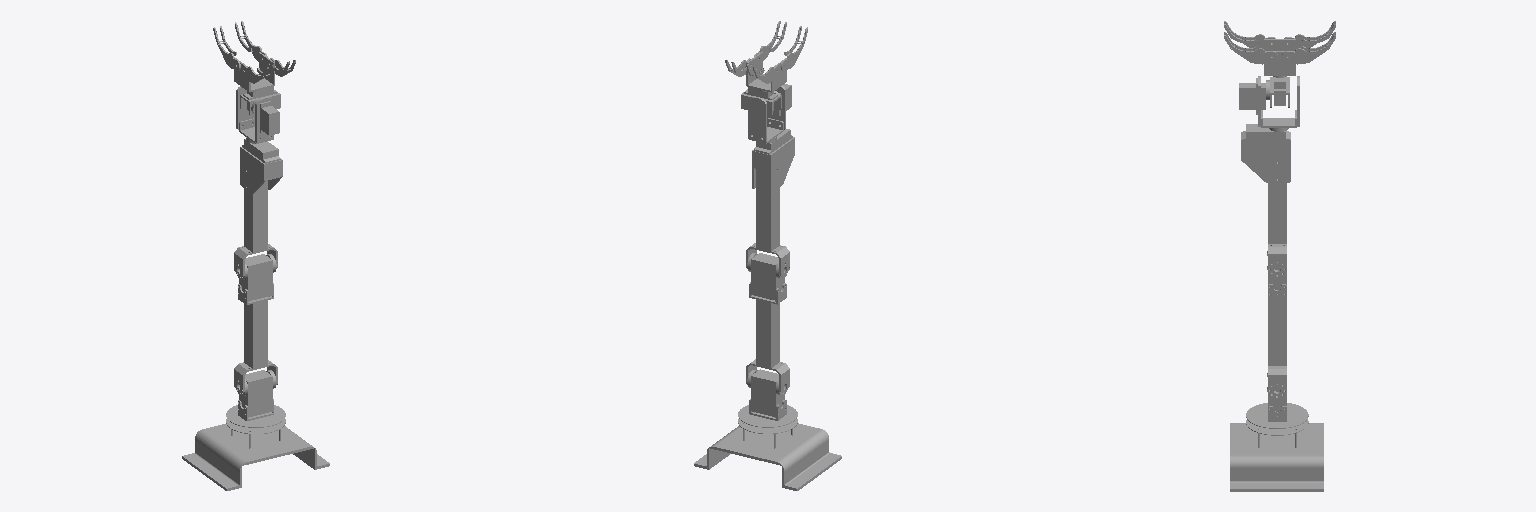
URDF robot description (robotArm_ver7):
<?xml version="1.0" ?>
<!-- =================================================================================== -->
<!-- |    This document was autogenerated by xacro from urdf\robotArm_ver7.xacro.temp  | -->
<!-- |    EDITING THIS FILE BY HAND IS NOT RECOMMENDED                                 | -->
<!-- =================================================================================== -->
<robot xmlns:xacro="http://www.ros.org/wiki/xacro" name="robotArm_ver7">
  <material name="silver">
    <color rgba="0.700 0.700 0.700 1.000"/>
  </material>
  <transmission name="Revolute 0_tran">
    <type>transmission_interface/SimpleTransmission</type>
    <joint name="Revolute 0">
      <hardwareInterface>hardware_interface/EffortJointInterface</hardwareInterface>
    </joint>
    <actuator name="Revolute 0_actr">
      <hardwareInterface>hardware_interface/EffortJointInterface</hardwareInterface>
      <mechanicalReduction>1</mechanicalReduction>
    </actuator>
  </transmission>
  <transmission name="Revolute 6_tran">
    <type>transmission_interface/SimpleTransmission</type>
    <joint name="Revolute 6">
      <hardwareInterface>hardware_interface/EffortJointInterface</hardwareInterface>
    </joint>
    <actuator name="Revolute 6_actr">
      <hardwareInterface>hardware_interface/EffortJointInterface</hardwareInterface>
      <mechanicalReduction>1</mechanicalReduction>
    </actuator>
  </transmission>
  <transmission name="Revolute 7_tran">
    <type>transmission_interface/SimpleTransmission</type>
    <joint name="Revolute 7">
      <hardwareInterface>hardware_interface/EffortJointInterface</hardwareInterface>
    </joint>
    <actuator name="Revolute 7_actr">
      <hardwareInterface>hardware_interface/EffortJointInterface</hardwareInterface>
      <mechanicalReduction>1</mechanicalReduction>
    </actuator>
  </transmission>
  <transmission name="Revolute 8_tran">
    <type>transmission_interface/SimpleTransmission</type>
    <joint name="Revolute 8">
      <hardwareInterface>hardware_interface/EffortJointInterface</hardwareInterface>
    </joint>
    <actuator name="Revolute 8_actr">
      <hardwareInterface>hardware_interface/EffortJointInterface</hardwareInterface>
      <mechanicalReduction>1</mechanicalReduction>
    </actuator>
  </transmission>
  <transmission name="Revolute 9_tran">
    <type>transmission_interface/SimpleTransmission</type>
    <joint name="Revolute 9">
      <hardwareInterface>hardware_interface/EffortJointInterface</hardwareInterface>
    </joint>
    <actuator name="Revolute 9_actr">
      <hardwareInterface>hardware_interface/EffortJointInterface</hardwareInterface>
      <mechanicalReduction>1</mechanicalReduction>
    </actuator>
  </transmission>
  <transmission name="Revolute 3_tran">
    <type>transmission_interface/SimpleTransmission</type>
    <joint name="Revolute 3">
      <hardwareInterface>hardware_interface/EffortJointInterface</hardwareInterface>
    </joint>
    <actuator name="Revolute 3_actr">
      <hardwareInterface>hardware_interface/EffortJointInterface</hardwareInterface>
      <mechanicalReduction>1</mechanicalReduction>
    </actuator>
  </transmission>
  <transmission name="Revolute 4_tran">
    <type>transmission_interface/SimpleTransmission</type>
    <joint name="Revolute 4">
      <hardwareInterface>hardware_interface/EffortJointInterface</hardwareInterface>
    </joint>
    <actuator name="Revolute 4_actr">
      <hardwareInterface>hardware_interface/EffortJointInterface</hardwareInterface>
      <mechanicalReduction>1</mechanicalReduction>
    </actuator>
  </transmission>
  <transmission name="Revolute 5_tran">
    <type>transmission_interface/SimpleTransmission</type>
    <joint name="Revolute 5">
      <hardwareInterface>hardware_interface/EffortJointInterface</hardwareInterface>
    </joint>
    <actuator name="Revolute 5_actr">
      <hardwareInterface>hardware_interface/EffortJointInterface</hardwareInterface>
      <mechanicalReduction>1</mechanicalReduction>
    </actuator>
  </transmission>
  <transmission name="Revolute 19_tran">
    <type>transmission_interface/SimpleTransmission</type>
    <joint name="Revolute 19">
      <hardwareInterface>hardware_interface/EffortJointInterface</hardwareInterface>
    </joint>
    <actuator name="Revolute 19_actr">
      <hardwareInterface>hardware_interface/EffortJointInterface</hardwareInterface>
      <mechanicalReduction>1</mechanicalReduction>
    </actuator>
  </transmission>
  <transmission name="Revolute 21_tran">
    <type>transmission_interface/SimpleTransmission</type>
    <joint name="Revolute 21">
      <hardwareInterface>hardware_interface/EffortJointInterface</hardwareInterface>
    </joint>
    <actuator name="Revolute 21_actr">
      <hardwareInterface>hardware_interface/EffortJointInterface</hardwareInterface>
      <mechanicalReduction>1</mechanicalReduction>
    </actuator>
  </transmission>
  <!-- omitted .gazebo include -->
  <link name="base_link">
    <inertial>
      <origin xyz="2.989375374043843 1.1395251464843752 0.07612872006595212" rpy="0 0 0"/>
      <mass value="1.6067306789990348"/>
      <inertia ixx="0.003521" iyy="0.006468" izz="0.008802" ixy="0.0" iyz="0.0" ixz="0.0"/>
    </inertial>
    <visual>
      <origin xyz="0 0 0" rpy="0 0 0"/>
      <geometry>
        <mesh filename="package://robotArm_ver7_description/meshes/base_link.stl" scale="0.001 0.001 0.001"/>
      </geometry>
      <material name="silver"/>
    </visual>
    <collision>
      <origin xyz="0 0 0" rpy="0 0 0"/>
      <geometry>
        <mesh filename="package://robotArm_ver7_description/meshes/base_link.stl" scale="0.001 0.001 0.001"/>
      </geometry>
    </collision>
  </link>
  <link name="link_1_1">
    <inertial>
      <origin xyz="2.079701451052074e-07 1.4648437618447474e-07 0.04484473463010137" rpy="0 0 0"/>
      <mass value="0.8724221516717876"/>
      <inertia ixx="0.000529" iyy="0.000636" izz="0.000308" ixy="-0.0" iyz="-0.0" ixz="-0.0"/>
    </inertial>
    <visual>
      <origin xyz="-2.989375 -1.139525 -0.122186" rpy="0 0 0"/>
      <geometry>
        <mesh filename="package://robotArm_ver7_description/meshes/link_1_1.stl" scale="0.001 0.001 0.001"/>
      </geometry>
      <material name="silver"/>
    </visual>
    <collision>
      <origin xyz="-2.989375 -1.139525 -0.122186" rpy="0 0 0"/>
      <geometry>
        <mesh filename="package://robotArm_ver7_description/meshes/link_1_1.stl" scale="0.001 0.001 0.001"/>
      </geometry>
    </collision>
  </link>
  <link name="grap_1_1">
    <inertial>
      <origin xyz="-0.0011124634317667415 -0.032767957693791594 0.005980632077344561" rpy="0 0 0"/>
      <mass value="0.040626783640930614"/>
      <inertia ixx="2.7e-05" iyy="6e-06" izz="2.3e-05" ixy="-2e-06" iyz="7e-06" ixz="1e-06"/>
    </inertial>
    <visual>
      <origin xyz="-3.014333 -1.131222 -0.778853" rpy="0 0 0"/>
      <geometry>
        <mesh filename="package://robotArm_ver7_description/meshes/grap_1_1.stl" scale="0.001 0.001 0.001"/>
      </geometry>
      <material name="silver"/>
    </visual>
    <collision>
      <origin xyz="-3.014333 -1.131222 -0.778853" rpy="0 0 0"/>
      <geometry>
        <mesh filename="package://robotArm_ver7_description/meshes/grap_1_1.stl" scale="0.001 0.001 0.001"/>
      </geometry>
    </collision>
  </link>
  <link name="grap_2_1">
    <inertial>
      <origin xyz="-0.0011124634317360993 0.03276825066262434 0.0059806320774223876" rpy="0 0 0"/>
      <mass value="0.040626783640931044"/>
      <inertia ixx="2.7e-05" iyy="6e-06" izz="2.3e-05" ixy="2e-06" iyz="-7e-06" ixz="1e-06"/>
    </inertial>
    <visual>
      <origin xyz="-3.014333 -1.156222 -0.778853" rpy="0 0 0"/>
      <geometry>
        <mesh filename="package://robotArm_ver7_description/meshes/grap_2_1.stl" scale="0.001 0.001 0.001"/>
      </geometry>
      <material name="silver"/>
    </visual>
    <collision>
      <origin xyz="-3.014333 -1.156222 -0.778853" rpy="0 0 0"/>
      <geometry>
        <mesh filename="package://robotArm_ver7_description/meshes/grap_2_1.stl" scale="0.001 0.001 0.001"/>
      </geometry>
    </collision>
  </link>
  <link name="grap1_2_1">
    <inertial>
      <origin xyz="0.0011127473107239716 -0.032767957693790706 0.005980632077423831" rpy="0 0 0"/>
      <mass value="0.04062678364093068"/>
      <inertia ixx="2.7e-05" iyy="6e-06" izz="2.3e-05" ixy="2e-06" iyz="7e-06" ixz="-1e-06"/>
    </inertial>
    <visual>
      <origin xyz="-2.964333 -1.131222 -0.778853" rpy="0 0 0"/>
      <geometry>
        <mesh filename="package://robotArm_ver7_description/meshes/grap1_2_1.stl" scale="0.001 0.001 0.001"/>
      </geometry>
      <material name="silver"/>
    </visual>
    <collision>
      <origin xyz="-2.964333 -1.131222 -0.778853" rpy="0 0 0"/>
      <geometry>
        <mesh filename="package://robotArm_ver7_description/meshes/grap1_2_1.stl" scale="0.001 0.001 0.001"/>
      </geometry>
    </collision>
  </link>
  <link name="grap2_2_1">
    <inertial>
      <origin xyz="0.001112747310715978 0.032768250662611464 0.005980632077452697" rpy="0 0 0"/>
      <mass value="0.04062678364093034"/>
      <inertia ixx="2.7e-05" iyy="6e-06" izz="2.3e-05" ixy="-2e-06" iyz="-7e-06" ixz="-1e-06"/>
    </inertial>
    <visual>
      <origin xyz="-2.964333 -1.156222 -0.778853" rpy="0 0 0"/>
      <geometry>
        <mesh filename="package://robotArm_ver7_description/meshes/grap2_2_1.stl" scale="0.001 0.001 0.001"/>
      </geometry>
      <material name="silver"/>
    </visual>
    <collision>
      <origin xyz="-2.964333 -1.156222 -0.778853" rpy="0 0 0"/>
      <geometry>
        <mesh filename="package://robotArm_ver7_description/meshes/grap2_2_1.stl" scale="0.001 0.001 0.001"/>
      </geometry>
    </collision>
  </link>
  <link name="Wrist1_1">
    <inertial>
      <origin xyz="3.7404379060745896e-07 -0.02000177002189374 0.04507703257348883" rpy="0 0 0"/>
      <mass value="0.544858404723334"/>
      <inertia ixx="0.000822" iyy="0.000329" izz="0.000562" ixy="0.0" iyz="0.000113" ixz="-0.0"/>
    </inertial>
    <visual>
      <origin xyz="-2.989375 -1.142023 -0.64097" rpy="0 0 0"/>
      <geometry>
        <mesh filename="package://robotArm_ver7_description/meshes/Wrist1_1.stl" scale="0.001 0.001 0.001"/>
      </geometry>
      <material name="silver"/>
    </visual>
    <collision>
      <origin xyz="-2.989375 -1.142023 -0.64097" rpy="0 0 0"/>
      <geometry>
        <mesh filename="package://robotArm_ver7_description/meshes/Wrist1_1.stl" scale="0.001 0.001 0.001"/>
      </geometry>
    </collision>
  </link>
  <link name="Wrist2_1">
    <inertial>
      <origin xyz="0.010085452867119482 0.021157588279396622 0.006057094515764971" rpy="0 0 0"/>
      <mass value="0.3986034277980482"/>
      <inertia ixx="9.1e-05" iyy="0.000131" izz="0.000113" ixy="-6e-06" iyz="-4e-06" ixz="-2e-06"/>
    </inertial>
    <visual>
      <origin xyz="-2.989375 -1.121022 -0.70742" rpy="0 0 0"/>
      <geometry>
        <mesh filename="package://robotArm_ver7_description/meshes/Wrist2_1.stl" scale="0.001 0.001 0.001"/>
      </geometry>
      <material name="silver"/>
    </visual>
    <collision>
      <origin xyz="-2.989375 -1.121022 -0.70742" rpy="0 0 0"/>
      <geometry>
        <mesh filename="package://robotArm_ver7_description/meshes/Wrist2_1.stl" scale="0.001 0.001 0.001"/>
      </geometry>
    </collision>
  </link>
  <link name="link_4_1">
    <inertial>
      <origin xyz="1.4193951924923454e-07 1.464844152643252e-07 0.01816842213440839" rpy="0 0 0"/>
      <mass value="0.1836674229836166"/>
      <inertia ixx="7.1e-05" iyy="0.000103" izz="0.0001" ixy="-0.0" iyz="-0.0" ixz="0.0"/>
    </inertial>
    <visual>
      <origin xyz="-2.989333 -1.143722 -0.736653" rpy="0 0 0"/>
      <geometry>
        <mesh filename="package://robotArm_ver7_description/meshes/link_4_1.stl" scale="0.001 0.001 0.001"/>
      </geometry>
      <material name="silver"/>
    </visual>
    <collision>
      <origin xyz="-2.989333 -1.143722 -0.736653" rpy="0 0 0"/>
      <geometry>
        <mesh filename="package://robotArm_ver7_description/meshes/link_4_1.stl" scale="0.001 0.001 0.001"/>
      </geometry>
    </collision>
  </link>
  <link name="link_2_1">
    <inertial>
      <origin xyz="2.930768165931852e-07 1.4648438195763447e-07 0.13199352594951722" rpy="0 0 0"/>
      <mass value="1.7894494256516804"/>
      <inertia ixx="0.007559" iyy="0.007762" izz="0.000473" ixy="0.0" iyz="0.0" ixz="0.0"/>
    </inertial>
    <visual>
      <origin xyz="-2.989375 -1.139525 -0.192528" rpy="0 0 0"/>
      <geometry>
        <mesh filename="package://robotArm_ver7_description/meshes/link_2_1.stl" scale="0.001 0.001 0.001"/>
      </geometry>
      <material name="silver"/>
    </visual>
    <collision>
      <origin xyz="-2.989375 -1.139525 -0.192528" rpy="0 0 0"/>
      <geometry>
        <mesh filename="package://robotArm_ver7_description/meshes/link_2_1.stl" scale="0.001 0.001 0.001"/>
      </geometry>
    </collision>
  </link>
  <link name="link_3_1">
    <inertial>
      <origin xyz="3.740437874988345e-07 -0.008179960596720992 0.14907072470751842" rpy="0 0 0"/>
      <mass value="2.3011672222568587"/>
      <inertia ixx="0.010731" iyy="0.010238" izz="0.001122" ixy="0.0" iyz="0.001076" ixz="0.0"/>
    </inertial>
    <visual>
      <origin xyz="-2.989375 -1.139525 -0.40687" rpy="0 0 0"/>
      <geometry>
        <mesh filename="package://robotArm_ver7_description/meshes/link_3_1.stl" scale="0.001 0.001 0.001"/>
      </geometry>
      <material name="silver"/>
    </visual>
    <collision>
      <origin xyz="-2.989375 -1.139525 -0.40687" rpy="0 0 0"/>
      <geometry>
        <mesh filename="package://robotArm_ver7_description/meshes/link_3_1.stl" scale="0.001 0.001 0.001"/>
      </geometry>
    </collision>
  </link>
  <joint name="Revolute 0" type="revolute">
    <origin xyz="2.989375 1.139525 0.122186" rpy="0 0 0"/>
    <parent link="base_link"/>
    <child link="link_1_1"/>
    <axis xyz="0.0 0.0 1.0"/>
    <limit upper="1.570796" lower="-1.570796" effort="100" velocity="100"/>
  </joint>
  <joint name="Revolute 6" type="revolute">
    <origin xyz="0.025 -0.0125 0.0422" rpy="0 0 0"/>
    <parent link="link_4_1"/>
    <child link="grap_1_1"/>
    <axis xyz="1.0 0.0 0.0"/>
    <limit upper="6.283185" lower="0.0" effort="100" velocity="100"/>
  </joint>
  <joint name="Revolute 7" type="revolute">
    <origin xyz="0.025 0.0125 0.0422" rpy="0 0 0"/>
    <parent link="link_4_1"/>
    <child link="grap_2_1"/>
    <axis xyz="1.0 0.0 0.0"/>
    <limit upper="6.283185" lower="0.0" effort="100" velocity="100"/>
  </joint>
  <joint name="Revolute 8" type="revolute">
    <origin xyz="-0.025 -0.0125 0.0422" rpy="0 0 0"/>
    <parent link="link_4_1"/>
    <child link="grap1_2_1"/>
    <axis xyz="-1.0 -0.0 -0.0"/>
    <limit upper="6.283185" lower="0.0" effort="100" velocity="100"/>
  </joint>
  <joint name="Revolute 9" type="revolute">
    <origin xyz="-0.025 0.0125 0.0422" rpy="0 0 0"/>
    <parent link="link_4_1"/>
    <child link="grap2_2_1"/>
    <axis xyz="-1.0 -0.0 -0.0"/>
    <limit upper="6.283185" lower="0.0" effort="100" velocity="100"/>
  </joint>
  <joint name="Revolute 3" type="revolute">
    <origin xyz="0.0 0.002498 0.2341" rpy="0 0 0"/>
    <parent link="link_3_1"/>
    <child link="Wrist1_1"/>
    <axis xyz="-0.0 0.0 1.0"/>
    <limit upper="3.141593" lower="0.0" effort="100" velocity="100"/>
  </joint>
  <joint name="Revolute 4" type="revolute">
    <origin xyz="0.0 -0.021001 0.06645" rpy="0 0 0"/>
    <parent link="Wrist1_1"/>
    <child link="Wrist2_1"/>
    <axis xyz="0.0 1.0 -0.0"/>
    <limit upper="1.570796" lower="-1.570796" effort="100" velocity="100"/>
  </joint>
  <joint name="Revolute 5" type="revolute">
    <origin xyz="-4.2e-05 0.0227 0.029233" rpy="0 0 0"/>
    <parent link="Wrist2_1"/>
    <child link="link_4_1"/>
    <axis xyz="-0.0 0.0 1.0"/>
    <limit upper="6.283185" lower="0.0" effort="100" velocity="100"/>
  </joint>
  <joint name="Revolute 19" type="revolute">
    <origin xyz="0.0 0.0 0.070342" rpy="0 0 0"/>
    <parent link="link_1_1"/>
    <child link="link_2_1"/>
    <axis xyz="-1.0 0.0 -0.0"/>
    <limit upper="1.396263" lower="-1.570796" effort="100" velocity="100"/>
  </joint>
  <joint name="Revolute 21" type="revolute">
    <origin xyz="0.0 0.0 0.214342" rpy="0 0 0"/>
    <parent link="link_2_1"/>
    <child link="link_3_1"/>
    <axis xyz="-1.0 -0.0 -0.0"/>
    <limit upper="1.570796" lower="0.0" effort="100" velocity="100"/>
  </joint>
</robot>

--- Render facts (derived) ---
The picture shows the robot from 3 angles, left to right: view 1: azimuth 30°, elevation 25°; view 2: azimuth 150°, elevation 25°; view 3: azimuth 270°, elevation 25°; orthographic projection.
Robot: robotArm_ver7 — 11 links, 10 joints (10 revolute); root link base_link; default pose: all joints at 0.
Visible links, largest first — view 1: base_link, link_3_1, link_2_1, link_1_1, Wrist1_1, link_4_1, Wrist2_1; view 2: base_link, link_3_1, link_2_1, link_1_1, Wrist1_1, link_4_1, Wrist2_1; view 3: base_link, link_3_1, link_2_1, link_1_1, Wrist1_1, link_4_1, grap_1_1, grap_2_1, Wrist2_1.
Boxes of the visible links, x1=… form: base_link: x1=182, y1=419, x2=329, y2=490; link_3_1: x1=234, y1=139, x2=282, y2=279; link_2_1: x1=234, y1=254, x2=277, y2=395; link_1_1: x1=226, y1=370, x2=285, y2=427; Wrist1_1: x1=236, y1=86, x2=279, y2=143; link_4_1: x1=234, y1=52, x2=274, y2=91; Wrist2_1: x1=240, y1=87, x2=280, y2=115; base_link: x1=694, y1=419, x2=841, y2=490; link_3_1: x1=746, y1=129, x2=794, y2=278; link_2_1: x1=746, y1=253, x2=789, y2=395; link_1_1: x1=738, y1=369, x2=797, y2=427; Wrist1_1: x1=748, y1=84, x2=791, y2=143; link_4_1: x1=746, y1=52, x2=786, y2=92; Wrist2_1: x1=741, y1=87, x2=781, y2=115; base_link: x1=1230, y1=419, x2=1323, y2=491; link_3_1: x1=1241, y1=124, x2=1290, y2=277; link_2_1: x1=1267, y1=266, x2=1286, y2=398; link_1_1: x1=1246, y1=388, x2=1308, y2=428; Wrist1_1: x1=1239, y1=76, x2=1299, y2=131; link_4_1: x1=1264, y1=39, x2=1295, y2=77; grap_1_1: x1=1224, y1=32, x2=1277, y2=64; grap_2_1: x1=1282, y1=32, x2=1335, y2=64; Wrist2_1: x1=1266, y1=77, x2=1289, y2=107.
Bounding box of the posed robot: 0.2 × 0.1802 × 0.7713 m (x, y, z).
11 mesh visuals loaded from 11 distinct referenced files (11 binary STL).